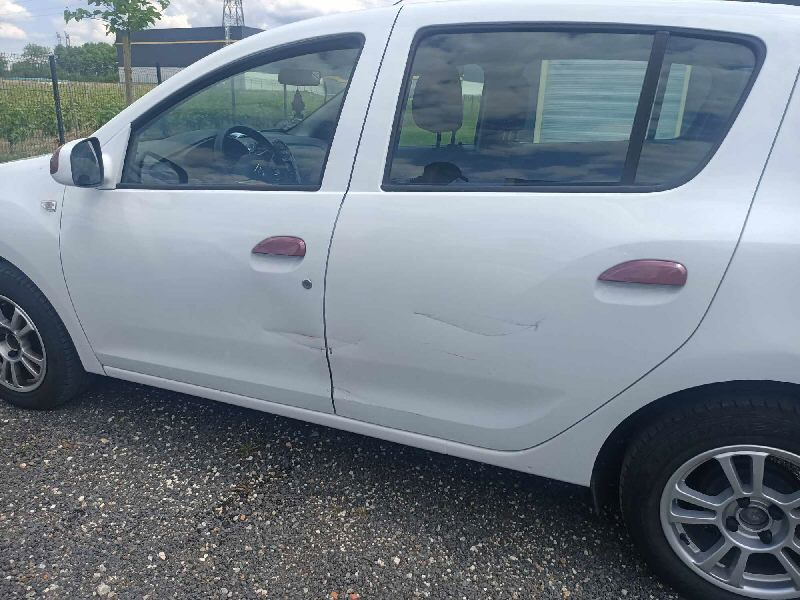front door: (54, 1, 383, 446)
